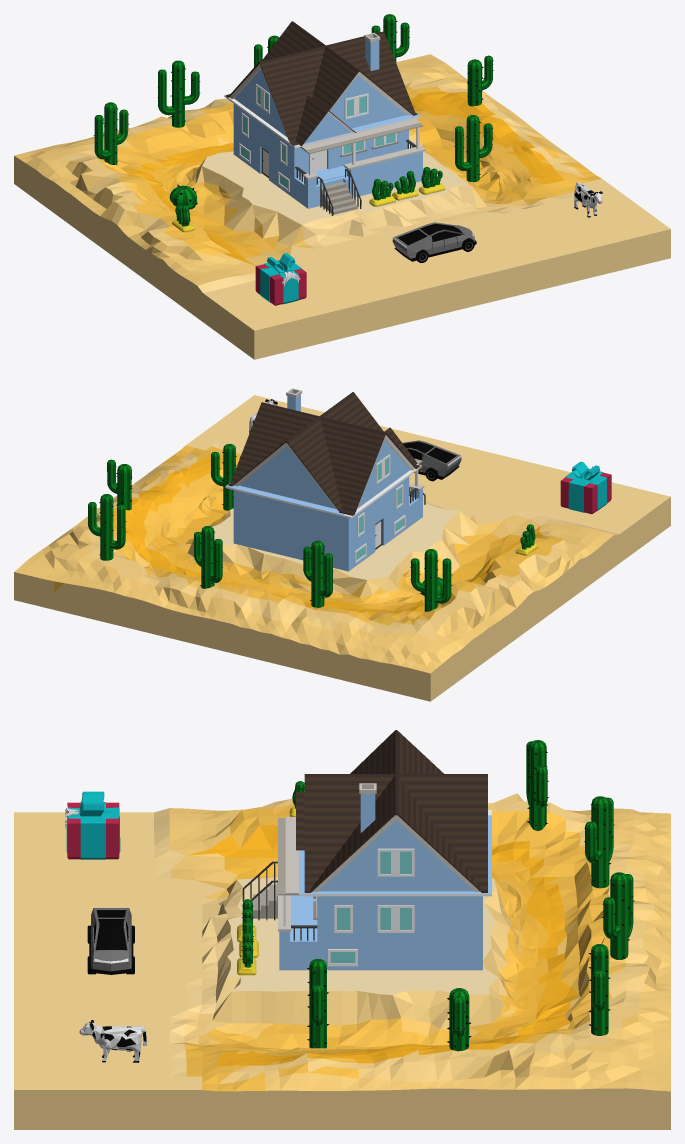
3 views of the same model, one above another, from view 1: azimuth 30°, elevation 25°; view 2: azimuth 150°, elevation 25°; view 3: azimuth 270°, elevation 25° (orthographic). The views are drawn at different scales.
Visible parts, largest first — view 1: Cube.001, Cube.1594, VEHICLES_CYBERTRUCK, OBJRANDOM_GIANT_PRESENT, Cylinder.037, Cylinder.044, Cylinder.045, Cylinder.038, Cylinder.042, ANIMAL_VACA, Cylinder.039, Cylinder.041 (+2 smaller); view 2: Cube.001, Cube.1594, OBJRANDOM_GIANT_PRESENT, Cylinder.042, Cylinder.045, Cylinder.044, VEHICLES_CYBERTRUCK, Cylinder.043, Cylinder.037, Cylinder.038; view 3: Cube.001, Cube.1594, OBJRANDOM_GIANT_PRESENT, VEHICLES_CYBERTRUCK, Cylinder.043, Cylinder.044, Cylinder.045, Cylinder.042, Cylinder.037, ANIMAL_VACA, Cylinder.038, Cylinder.041.
Part boxes in pixels (x1,y1,x2,y2): Cube.001: (14, 54, 670, 359); Cube.1594: (224, 21, 425, 215); VEHICLES_CYBERTRUCK: (392, 222, 476, 262); OBJRANDOM_GIANT_PRESENT: (255, 253, 306, 305); Cylinder.037: (454, 115, 493, 182); Cylinder.044: (157, 60, 200, 127); Cylinder.045: (93, 102, 129, 164); Cylinder.038: (467, 55, 493, 106); Cylinder.042: (371, 14, 409, 62); ANIMAL_VACA: (574, 182, 602, 217); Cylinder.039: (369, 179, 395, 206); Cylinder.041: (418, 167, 445, 194); Cube.001: (14, 395, 670, 701); Cube.1594: (225, 388, 425, 571); OBJRANDOM_GIANT_PRESENT: (560, 461, 611, 514); Cylinder.042: (88, 494, 126, 560); Cylinder.045: (410, 549, 452, 611); Cylinder.044: (303, 540, 333, 607); VEHICLES_CYBERTRUCK: (402, 440, 461, 481); Cylinder.043: (193, 526, 222, 588); Cylinder.037: (211, 444, 240, 510); Cylinder.038: (107, 459, 131, 510); Cube.001: (14, 793, 670, 1129); Cube.1594: (242, 730, 491, 970); OBJRANDOM_GIANT_PRESENT: (65, 791, 120, 859); VEHICLES_CYBERTRUCK: (87, 907, 134, 974); Cylinder.043: (602, 872, 634, 959); Cylinder.044: (584, 796, 614, 888); Cylinder.045: (526, 740, 548, 830); Cylinder.042: (588, 944, 610, 1035); Cylinder.037: (307, 959, 329, 1048); ANIMAL_VACA: (79, 1020, 146, 1062); Cylinder.038: (447, 988, 471, 1051); Cylinder.041: (237, 932, 256, 975).
Size of the model in its own units: 4002 by 1630 by 4001.
28 materials, 2 textured.
